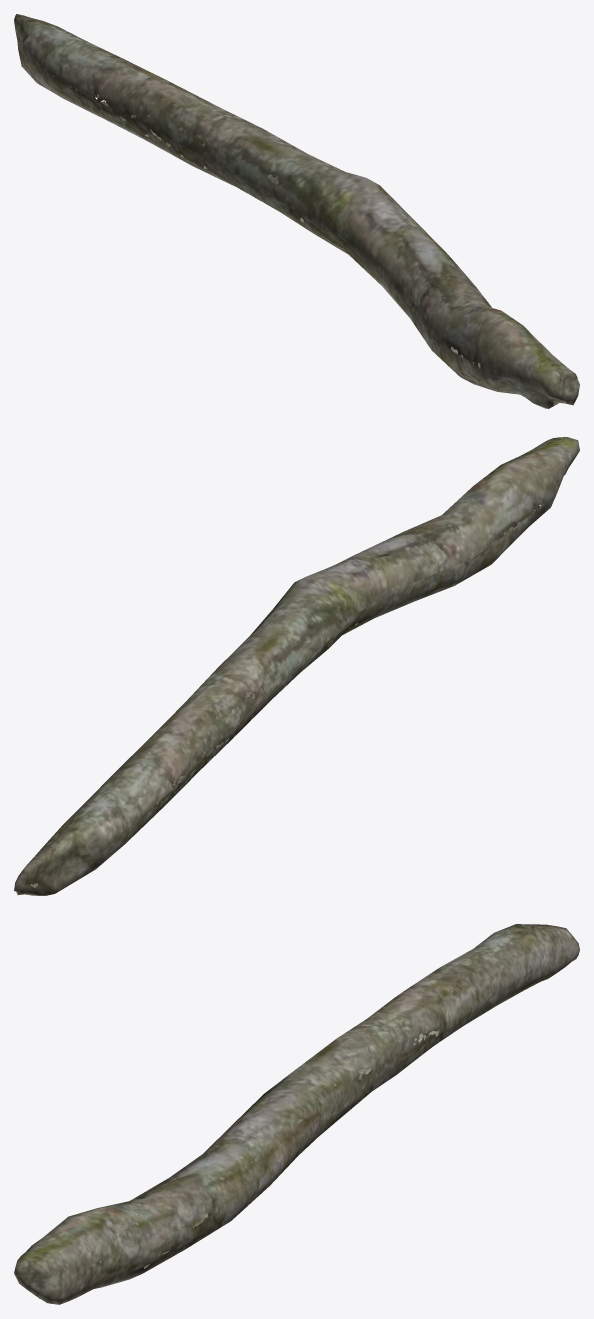
3 renders of one model, top to bottom at view 1: azimuth 30°, elevation 25°; view 2: azimuth 150°, elevation 25°; view 3: azimuth 330°, elevation 25°, orthographic. The views are drawn at different scales.
Parts seen in each view (by area): view 1: SM_OakWood_01_LOD0; view 2: SM_OakWood_01_LOD0; view 3: SM_OakWood_01_LOD0.
Part boxes in pixels (left/top/right/bottom): SM_OakWood_01_LOD0: left=14, top=14, right=579, bottom=408; SM_OakWood_01_LOD0: left=14, top=437, right=579, bottom=895; SM_OakWood_01_LOD0: left=14, top=924, right=579, bottom=1304.
Bounding box in the file's own units: 0.1643 × 0.18 × 1.75.
Materials: 1 (1 with a texture image).
